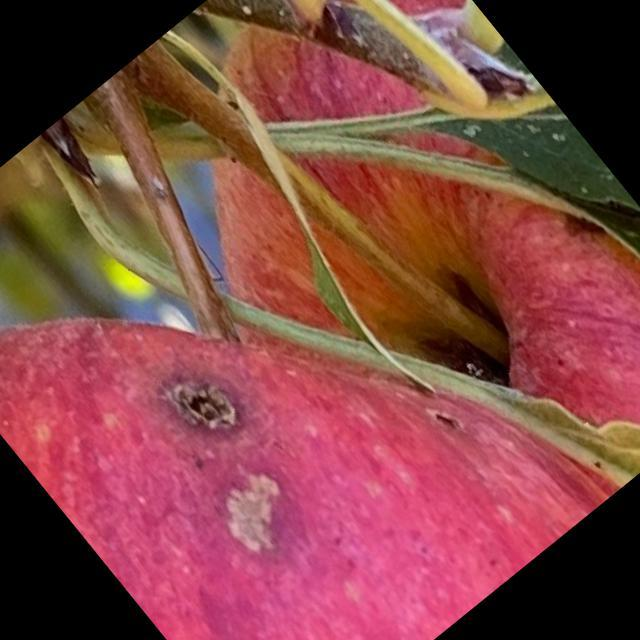100-_ripeness: (85, 0, 639, 613), (0, 90, 607, 639)
